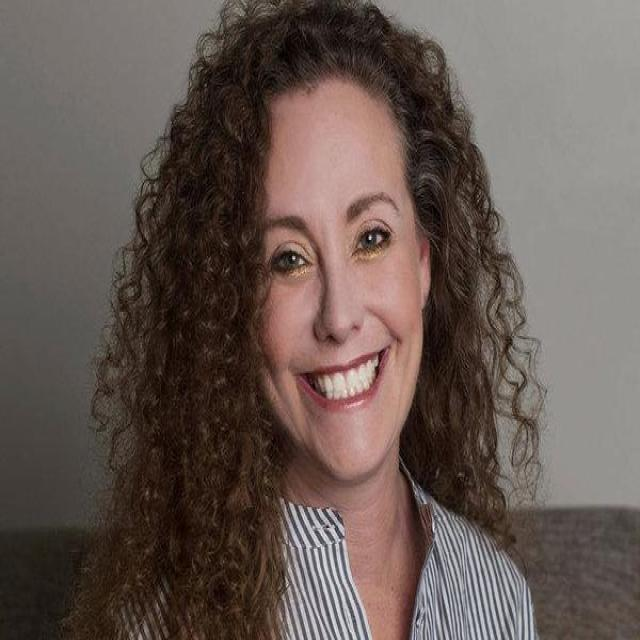mobile_phonerotation: (61, 0, 548, 637)
